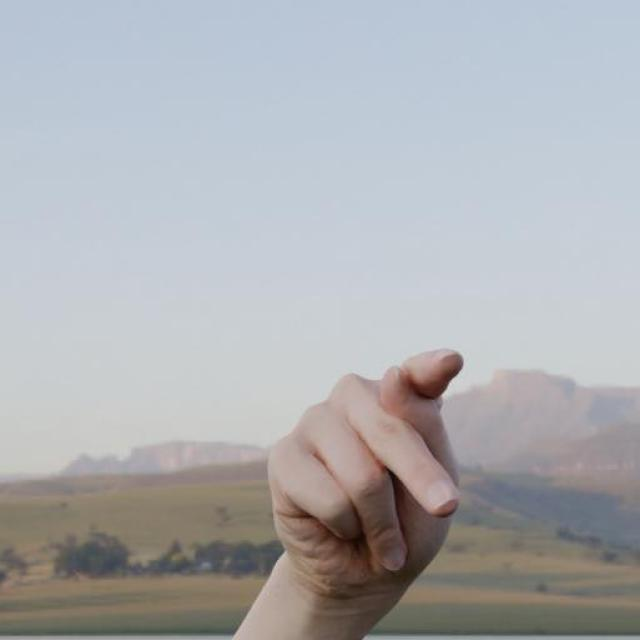P: (222, 314, 542, 637)
